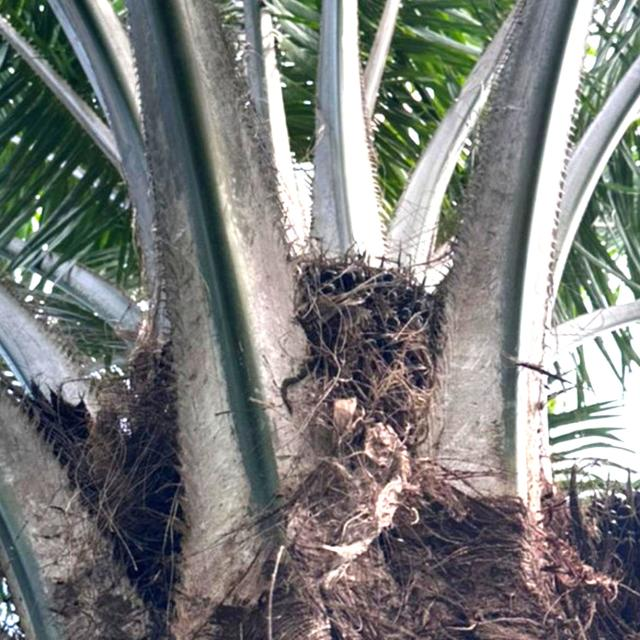unripe: (278, 242, 466, 488)
